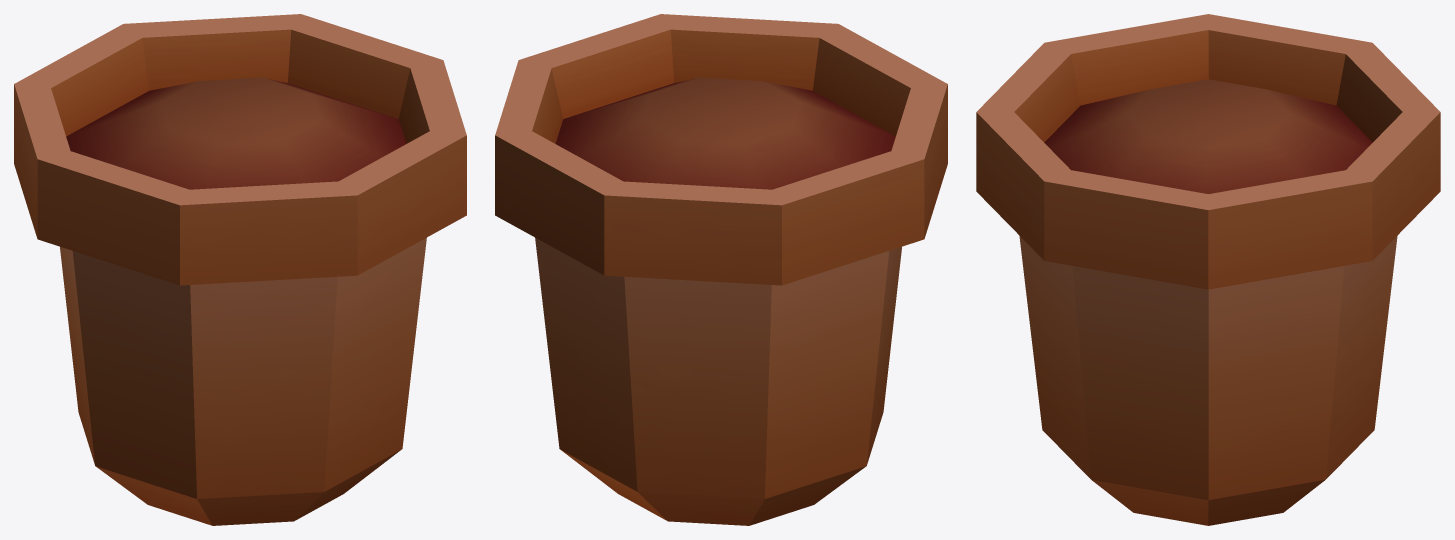
The model's file is SM_FlowerPot_01.fbx.
3 views of the same model, side by side, from view 1: azimuth 30°, elevation 25°; view 2: azimuth 150°, elevation 25°; view 3: azimuth 270°, elevation 25° (orthographic).
Parts seen in each view (by area): view 1: SM_FlowerPot_01; view 2: SM_FlowerPot_01; view 3: SM_FlowerPot_01.
Boxes of the visible parts, left/top/right/bottom form: SM_FlowerPot_01: left=14, top=14, right=466, bottom=525; SM_FlowerPot_01: left=495, top=14, right=947, bottom=525; SM_FlowerPot_01: left=976, top=14, right=1440, bottom=525.
Bounding box in the file's own units: 0.6296 × 0.5524 × 0.6296.
